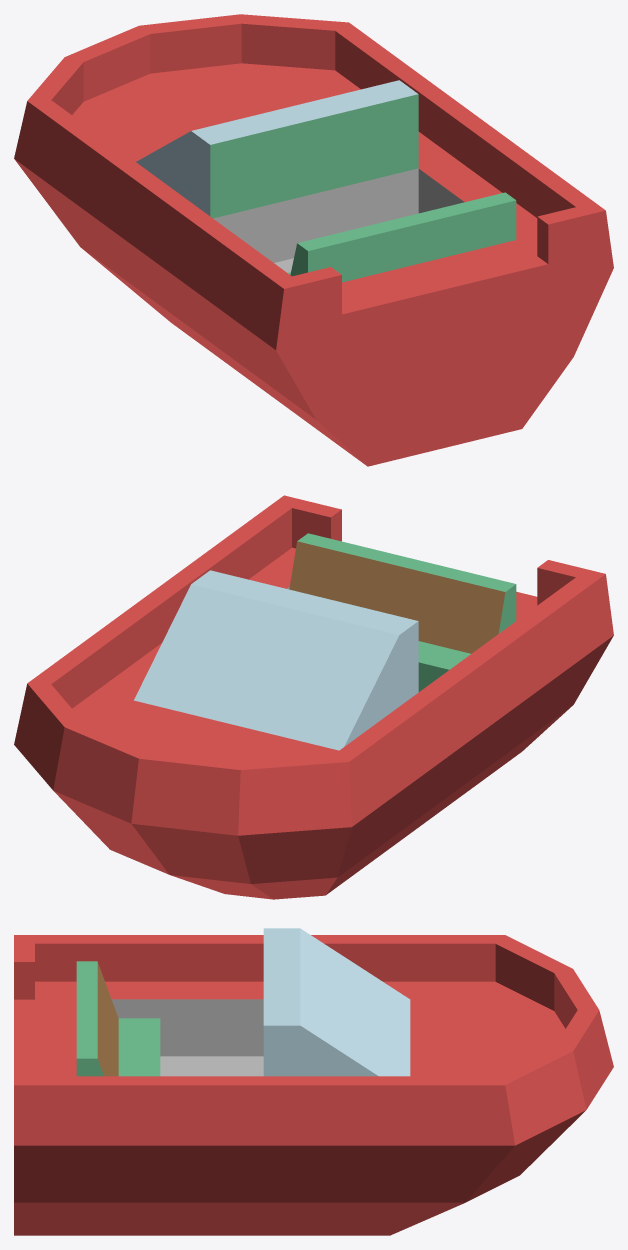
Rendered from boat_014.fbx.
3 views of the same model, one above another, from view 1: azimuth 30°, elevation 25°; view 2: azimuth 150°, elevation 25°; view 3: azimuth 270°, elevation 25° (orthographic). The views are drawn at different scales.
Parts seen in each view (by area): view 1: boat_014; view 2: boat_014; view 3: boat_014.
Part boxes in pixels (bbox=[...]): boat_014: bbox=[14, 14, 613, 466]; boat_014: bbox=[14, 495, 613, 899]; boat_014: bbox=[14, 928, 613, 1235].
Size of the model in its own units: 17.85 by 11.75 by 28.7.
